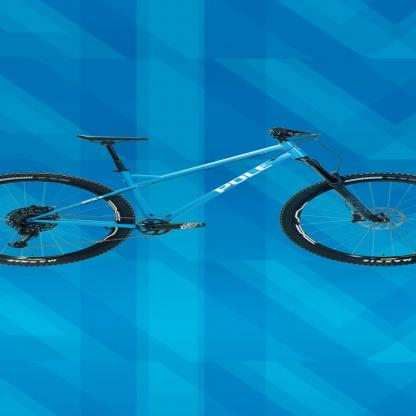Bike: (6, 130, 416, 267)
